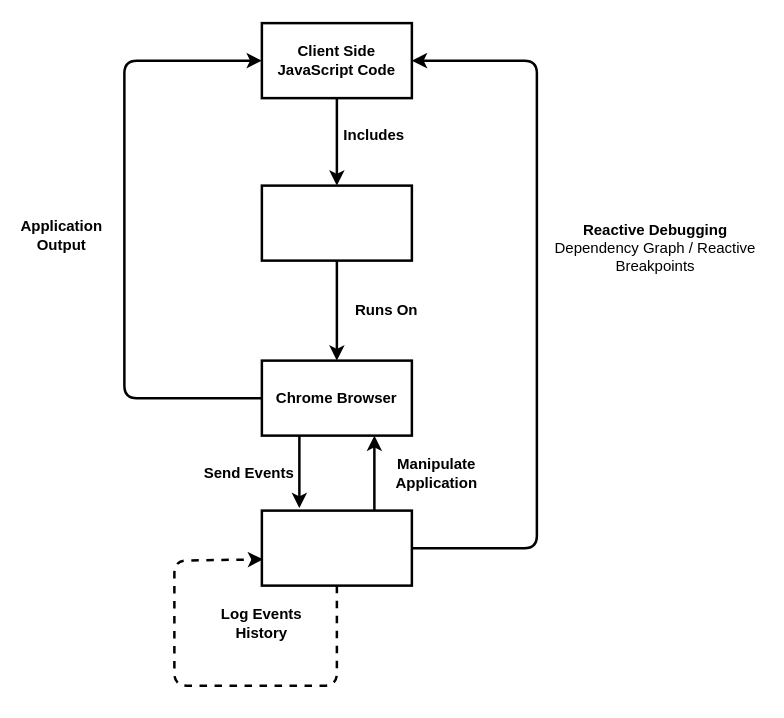
Some shapes in this 784 by 718 pixel diagram are drawn without their labels. The shapes that lost their labels are listed below. From the top down, each one's box as (x1, y1, x2, y2) in pixels, then its label:
(260, 184, 412, 261): Reactive Libraries RxJS / Bacon.js
(260, 509, 412, 586): Chrome DevTools Extension
